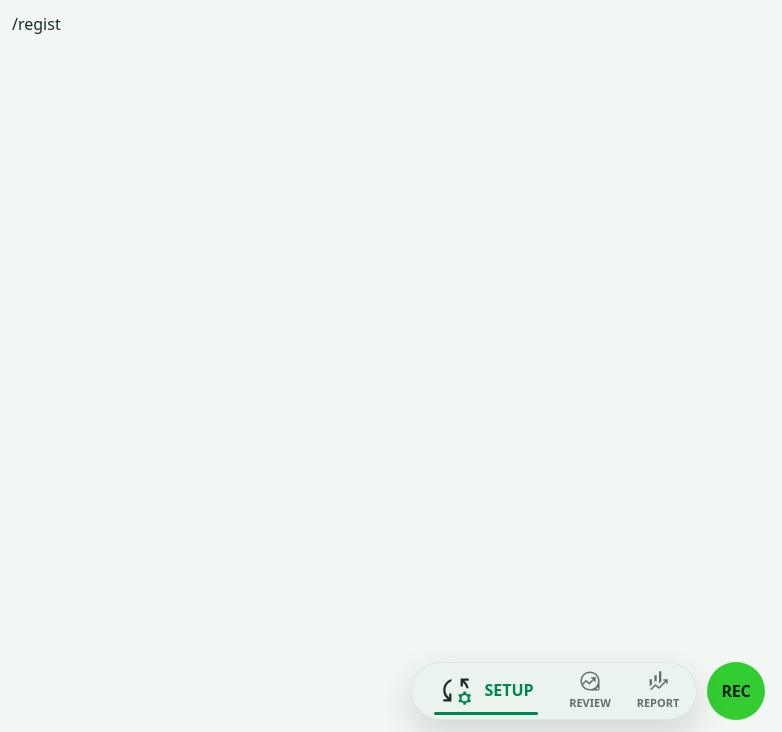
BottomNav contextual centre action › shows one three-zone dock and the inactive REC state outside Production
Expected: the element showing "SETUP REVIEW REPORT" is shown, [411,662,697,720]
Click the button "REC".
click(736, 691)  # box [707,662,765,720]
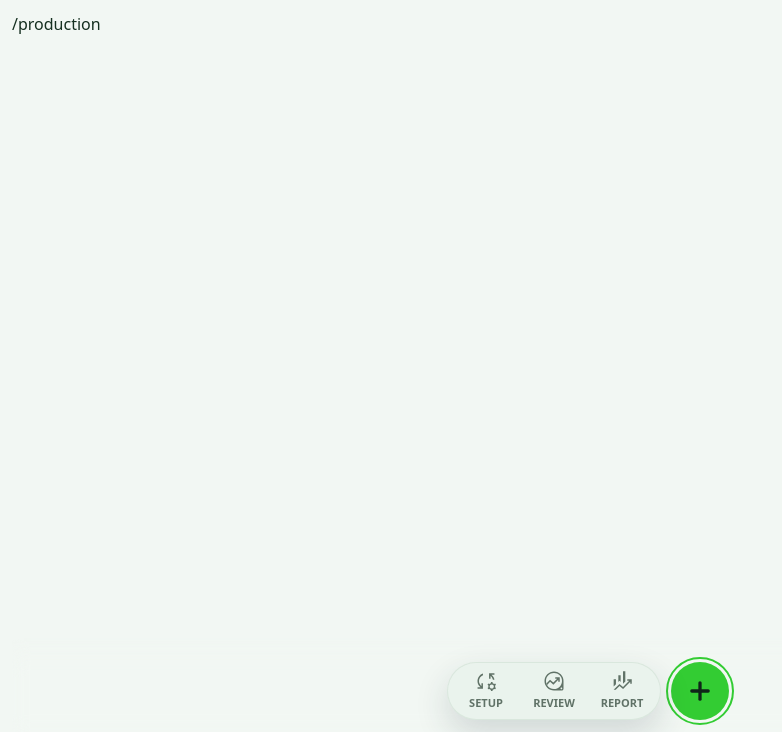
Now the button named "Add" is shown, box [671,662,729,720]
Now the text with test id "route-path" reads "/production", box [12,13,101,35]
